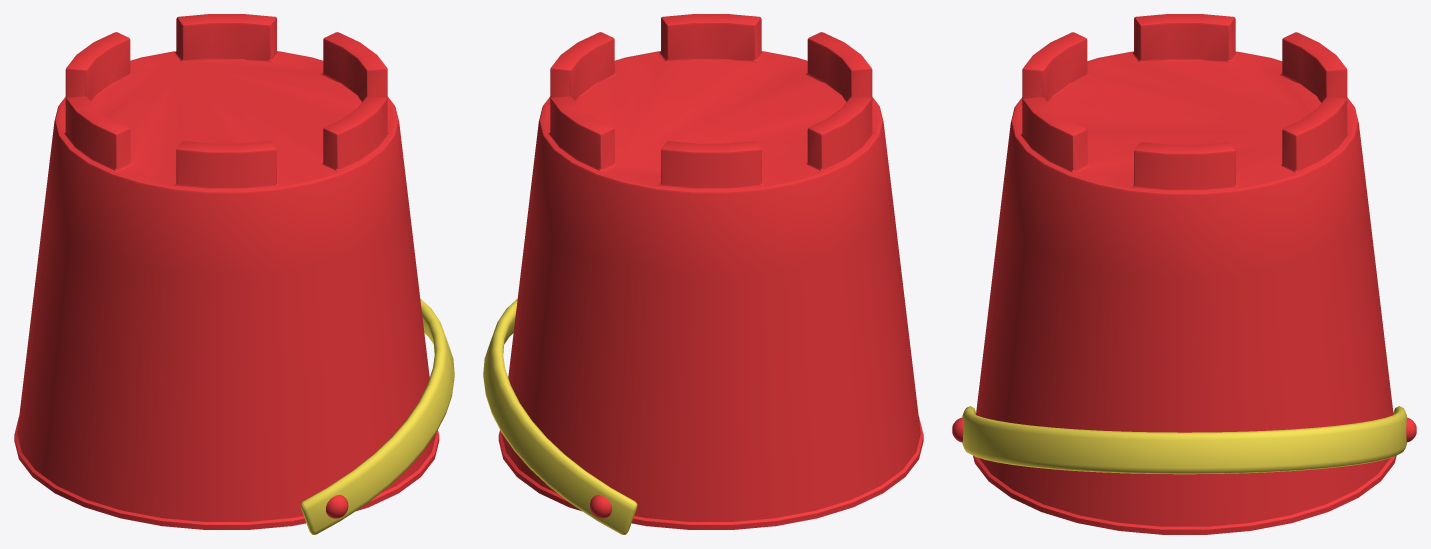
Rendered from bucket.fbx.
The picture shows the model from 3 angles, left to right: view 1: azimuth 30°, elevation 25°; view 2: azimuth 150°, elevation 25°; view 3: azimuth 270°, elevation 25°; orthographic projection.
Visible parts, largest first — view 1: Cylinder, BézierCircle; view 2: Cylinder, BézierCircle; view 3: Cylinder, BézierCircle.
Part boxes in pixels (x1,y1,x2,y2): Cylinder: (14, 14, 439, 529); BézierCircle: (300, 299, 454, 534); Cylinder: (498, 14, 923, 529); BézierCircle: (483, 299, 637, 534); Cylinder: (973, 14, 1396, 534); BézierCircle: (962, 406, 1406, 474).
Size of the model in its own units: 31.51 by 29.15 by 32.88.
